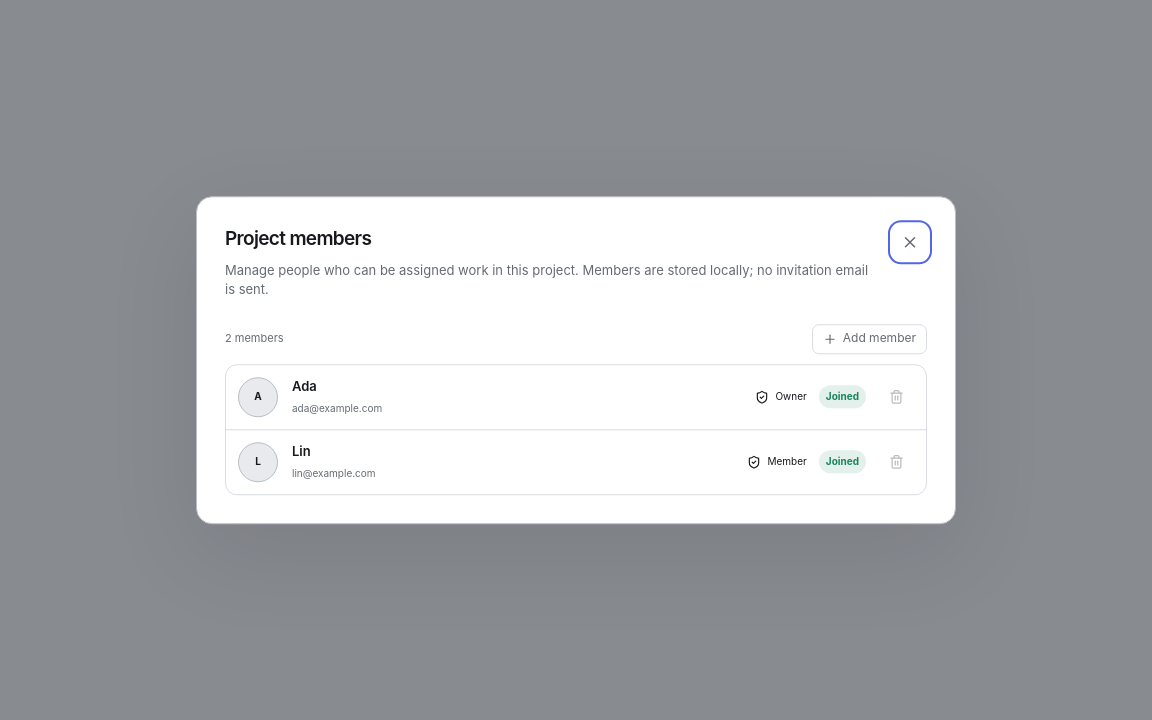
MemberManagementDialog › explains why a member referenced by tasks cannot be removed
The image size is (1152, 720).
Click the button named "Remove Lin" at (896, 462), box x1=878 y1=444 x2=914 y2=480
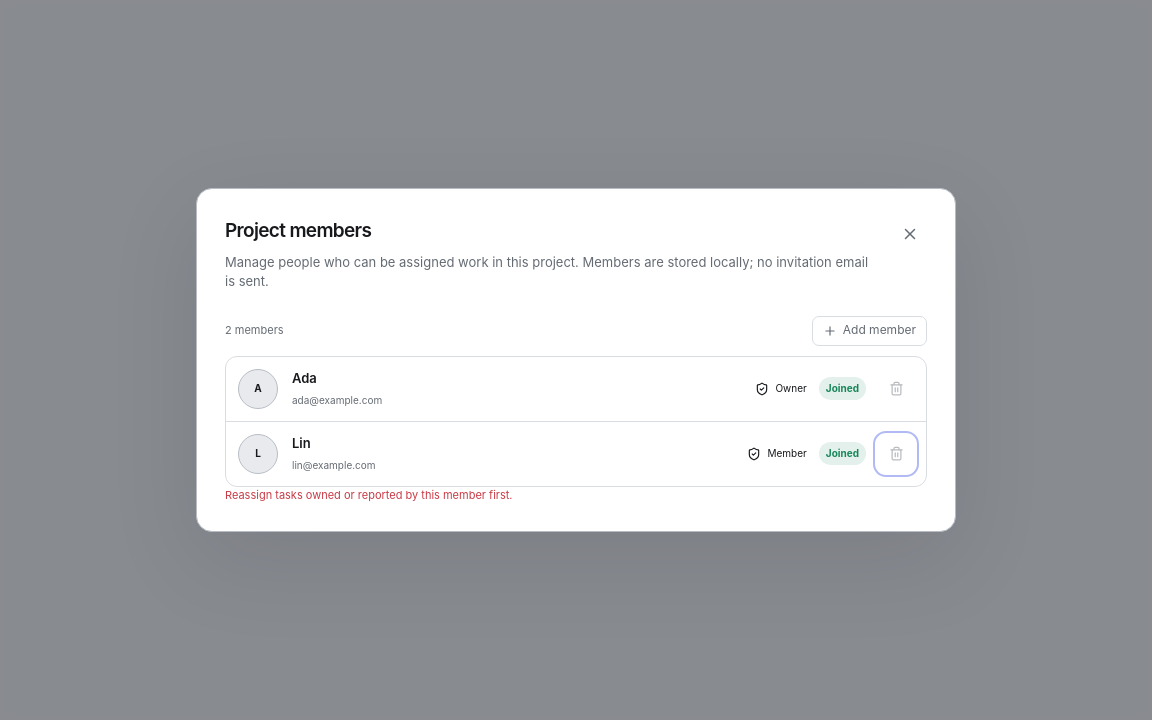
Now the message reads "Reassign tasks owned or reported by this member first.", box x1=225 y1=488 x2=512 y2=502
